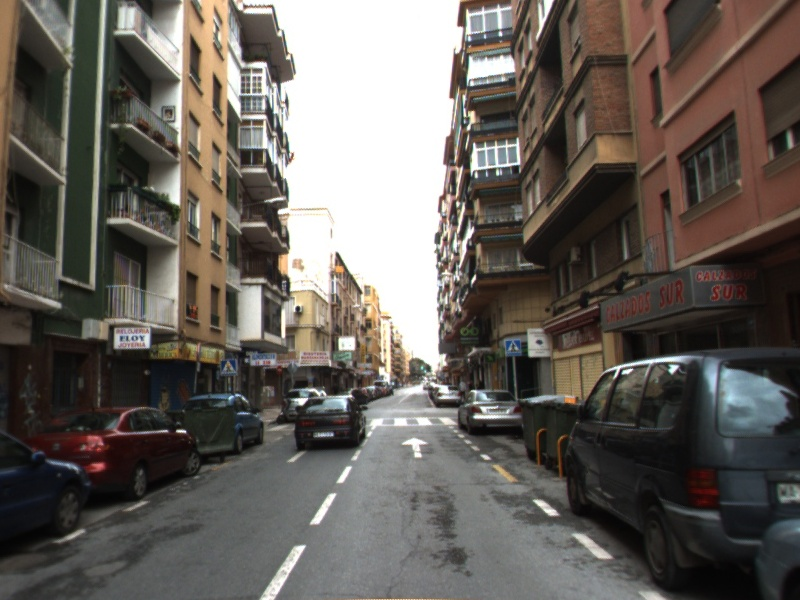STRAIGHT: (400, 435, 431, 459)
